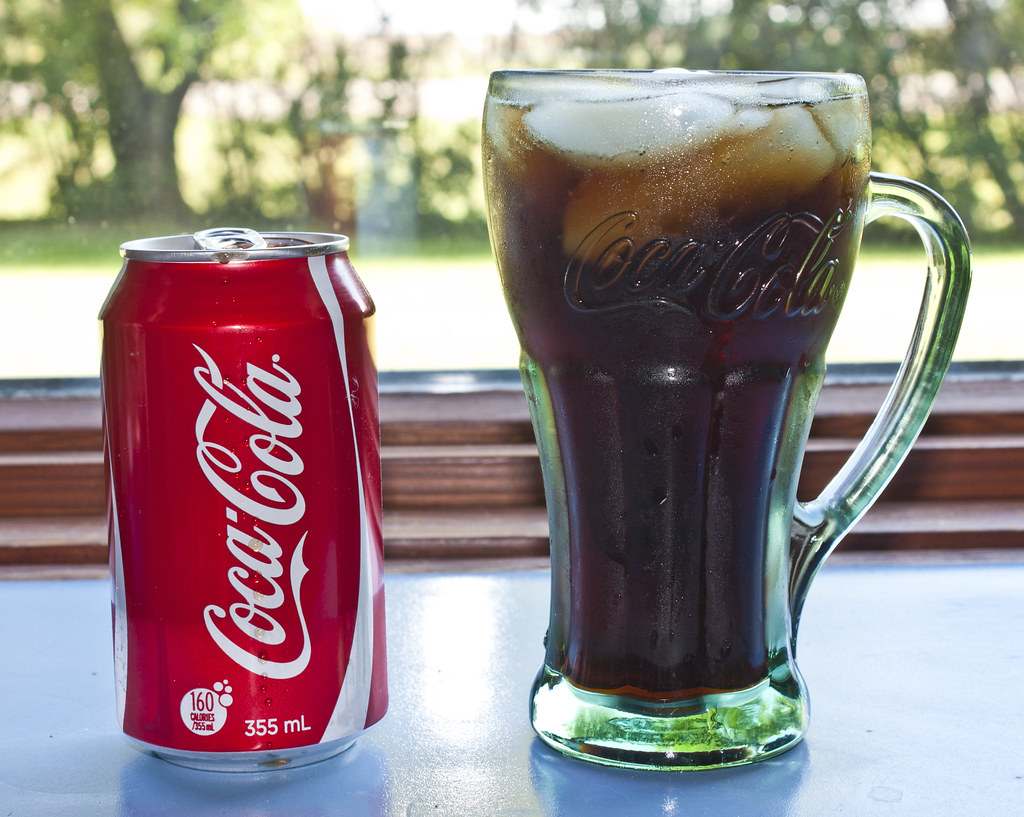can: (87, 219, 404, 779)
